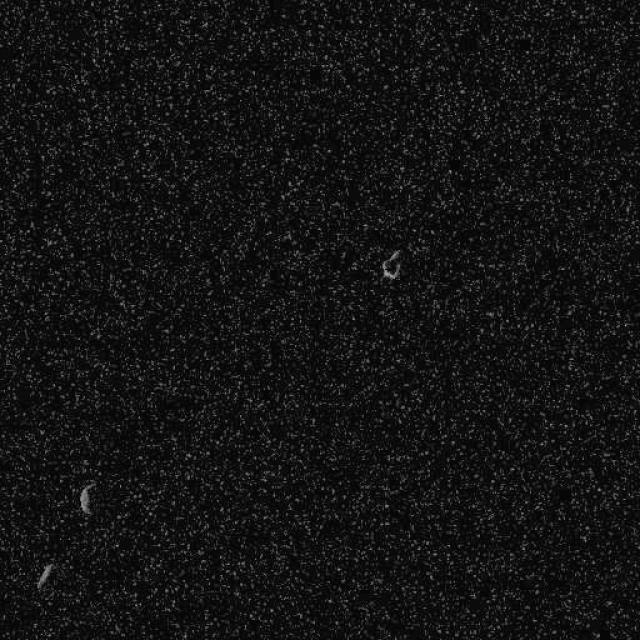D2: (380, 248, 402, 282), (77, 481, 95, 515), (35, 561, 55, 590)
